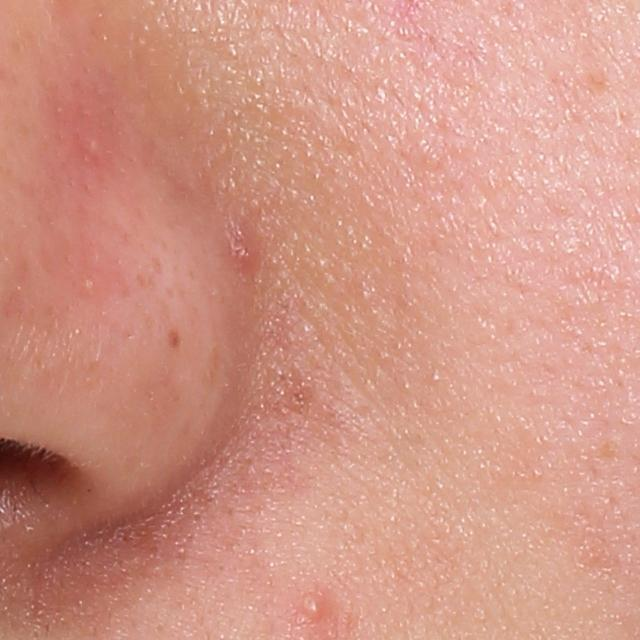nevus: (166, 332, 184, 351)
